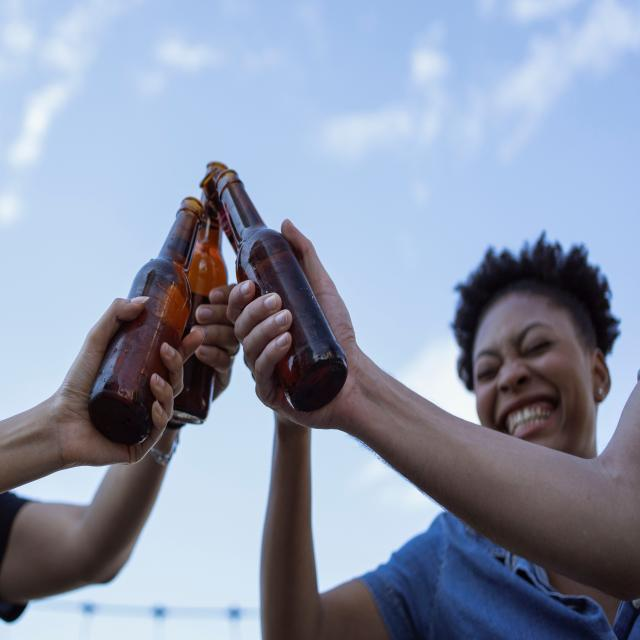Bottle: (201, 170, 347, 412), (89, 198, 204, 445), (183, 198, 227, 337)
